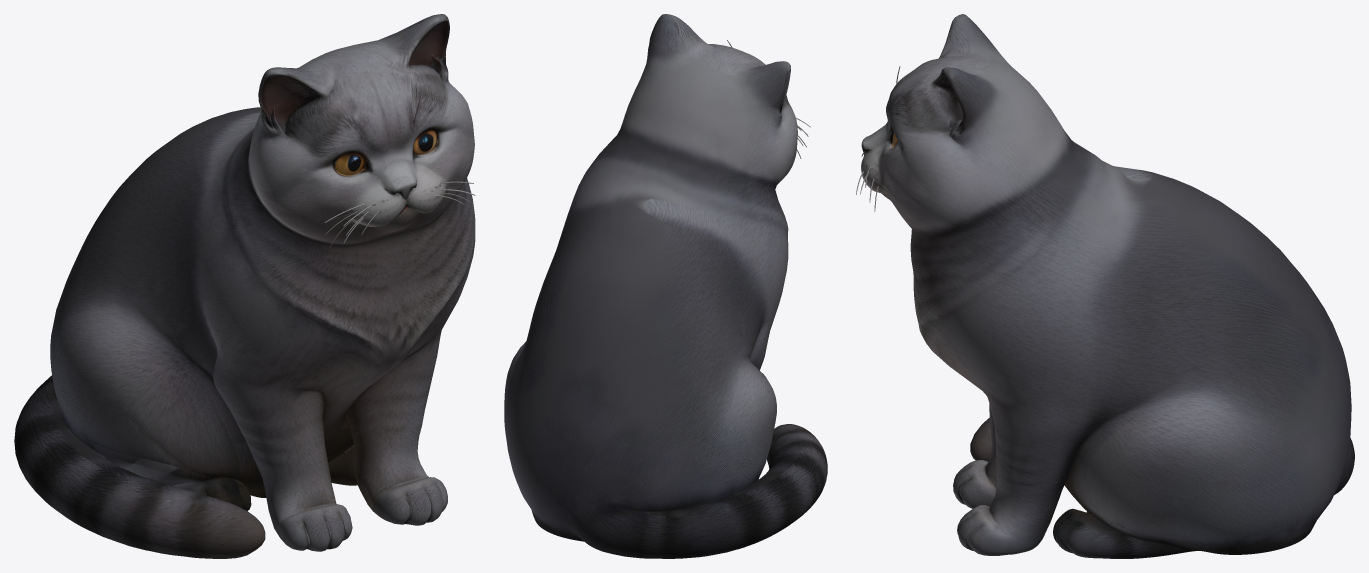
Rendered from sitting_catbritish_shorthair_blue_cat.glb.
3 views of the same model, side by side, from view 1: azimuth 30°, elevation 25°; view 2: azimuth 150°, elevation 25°; view 3: azimuth 270°, elevation 25° (orthographic). The views are drawn at different scales.
Parts seen in each view (by area): view 1: cat_0; view 2: cat_0; view 3: cat_0.
Part boxes in pixels (x1=…): cat_0: x1=14, y1=14, x2=475, y2=558; cat_0: x1=504, y1=14, x2=827, y2=558; cat_0: x1=856, y1=14, x2=1354, y2=558.
Bounding box in the file's own units: 0.6476 × 0.9132 × 0.855.
1 material, 1 textured.
